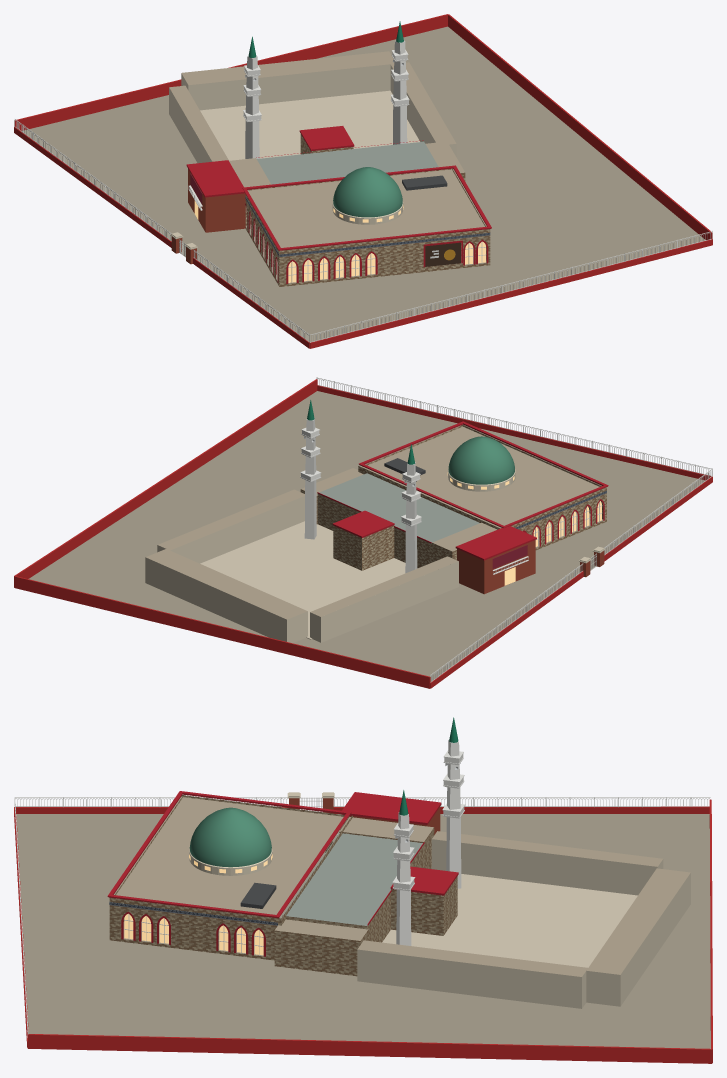
The model's file is lal_masjid.glb.
3 renders of one model, top to bottom at view 1: azimuth 30°, elevation 25°; view 2: azimuth 150°, elevation 25°; view 3: azimuth 270°, elevation 25°, orthographic. The views are drawn at different scales.
Parts seen in each view (by area): view 1: m_lal_ground, m_lal_roof, m_lal_boundary_red, m_lal_pave, m_lal_cream, m_lal_wall_stone, m_lal_red_trim, m_lal_grille, m_lal_verandah_roof, m_lal_minaret_white, m_lal_dome, m_lal_red_brick (+3 smaller); view 2: m_lal_ground, m_lal_roof, m_lal_boundary_red, m_lal_cream, m_lal_pave, m_lal_wall_stone, m_lal_grille, m_lal_red_trim, m_lal_verandah_roof, m_lal_minaret_white, m_lal_dome, m_lal_red_brick (+1 smaller); view 3: m_lal_ground, m_lal_roof, m_lal_cream, m_lal_boundary_red, m_lal_pave, m_lal_wall_stone, m_lal_verandah_roof, m_lal_red_trim, m_lal_minaret_white, m_lal_dome, m_lal_grille, m_lal_window (+3 smaller).
Boxes of the visible parts, x1=… form: m_lal_ground: x1=22, y1=26, x2=705, y2=341; m_lal_roof: x1=169, y1=51, x2=486, y2=247; m_lal_boundary_red: x1=14, y1=14, x2=712, y2=348; m_lal_pave: x1=200, y1=90, x2=419, y2=160; m_lal_cream: x1=169, y1=64, x2=456, y2=249; m_lal_wall_stone: x1=245, y1=134, x2=490, y2=286; m_lal_red_trim: x1=186, y1=126, x2=491, y2=283; m_lal_grille: x1=14, y1=119, x2=712, y2=342; m_lal_verandah_roof: x1=256, y1=141, x2=438, y2=184; m_lal_minaret_white: x1=243, y1=40, x2=409, y2=158; m_lal_dome: x1=333, y1=167, x2=402, y2=217; m_lal_red_brick: x1=171, y1=169, x2=245, y2=264; m_lal_ground: x1=28, y1=391, x2=704, y2=681; m_lal_roof: x1=146, y1=427, x2=600, y2=619; m_lal_boundary_red: x1=14, y1=379, x2=712, y2=688; m_lal_cream: x1=145, y1=469, x2=605, y2=643; m_lal_pave: x1=200, y1=521, x2=405, y2=639; m_lal_wall_stone: x1=300, y1=425, x2=606, y2=570; m_lal_grille: x1=316, y1=377, x2=712, y2=682; m_lal_red_trim: x1=317, y1=421, x2=608, y2=560; m_lal_verandah_roof: x1=319, y1=473, x2=479, y2=543; m_lal_minaret_white: x1=300, y1=417, x2=421, y2=573; m_lal_dome: x1=448, y1=436, x2=514, y2=484; m_lal_red_brick: x1=457, y1=540, x2=604, y2=594; m_lal_ground: x1=16, y1=814, x2=710, y2=1048; m_lal_roof: x1=114, y1=797, x2=690, y2=976; m_lal_cream: x1=189, y1=792, x2=690, y2=1008; m_lal_boundary_red: x1=14, y1=799, x2=712, y2=1063; m_lal_pave: x1=382, y1=874, x2=637, y2=967; m_lal_wall_stone: x1=109, y1=795, x2=457, y2=976; m_lal_verandah_roof: x1=283, y1=833, x2=422, y2=925; m_lal_red_trim: x1=107, y1=791, x2=458, y2=956; m_lal_minaret_white: x1=392, y1=740, x2=465, y2=945; m_lal_dome: x1=189, y1=807, x2=271, y2=867; m_lal_grille: x1=14, y1=797, x2=710, y2=1037; m_lal_window: x1=124, y1=854, x2=272, y2=955.
Size of the model in its own units: 83.98 by 26.5 by 98.32.
Materials: 20 (2 with a texture image).
